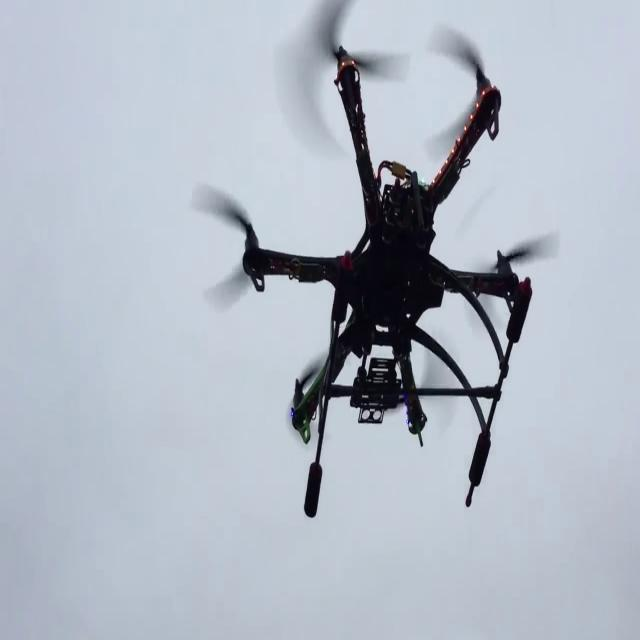drone: (164, 0, 590, 546)
